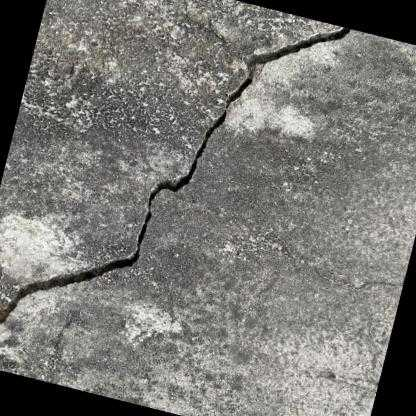crack: (0, 28, 350, 324)
